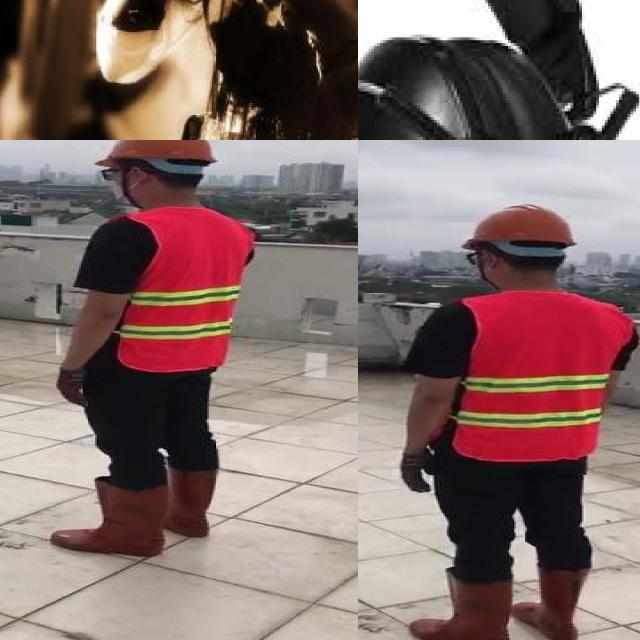Ear-protection: (358, 23, 510, 140)
boots: (52, 481, 168, 556), (411, 574, 516, 640), (510, 568, 592, 640), (161, 468, 219, 537)
hand_glove: (395, 450, 440, 492), (54, 369, 92, 407)
head_helmet: (458, 201, 583, 250), (93, 140, 215, 163)
person: (385, 200, 640, 640), (59, 140, 256, 552), (128, 0, 358, 140), (7, 0, 131, 140)
vest: (461, 291, 628, 460), (114, 209, 250, 372)
